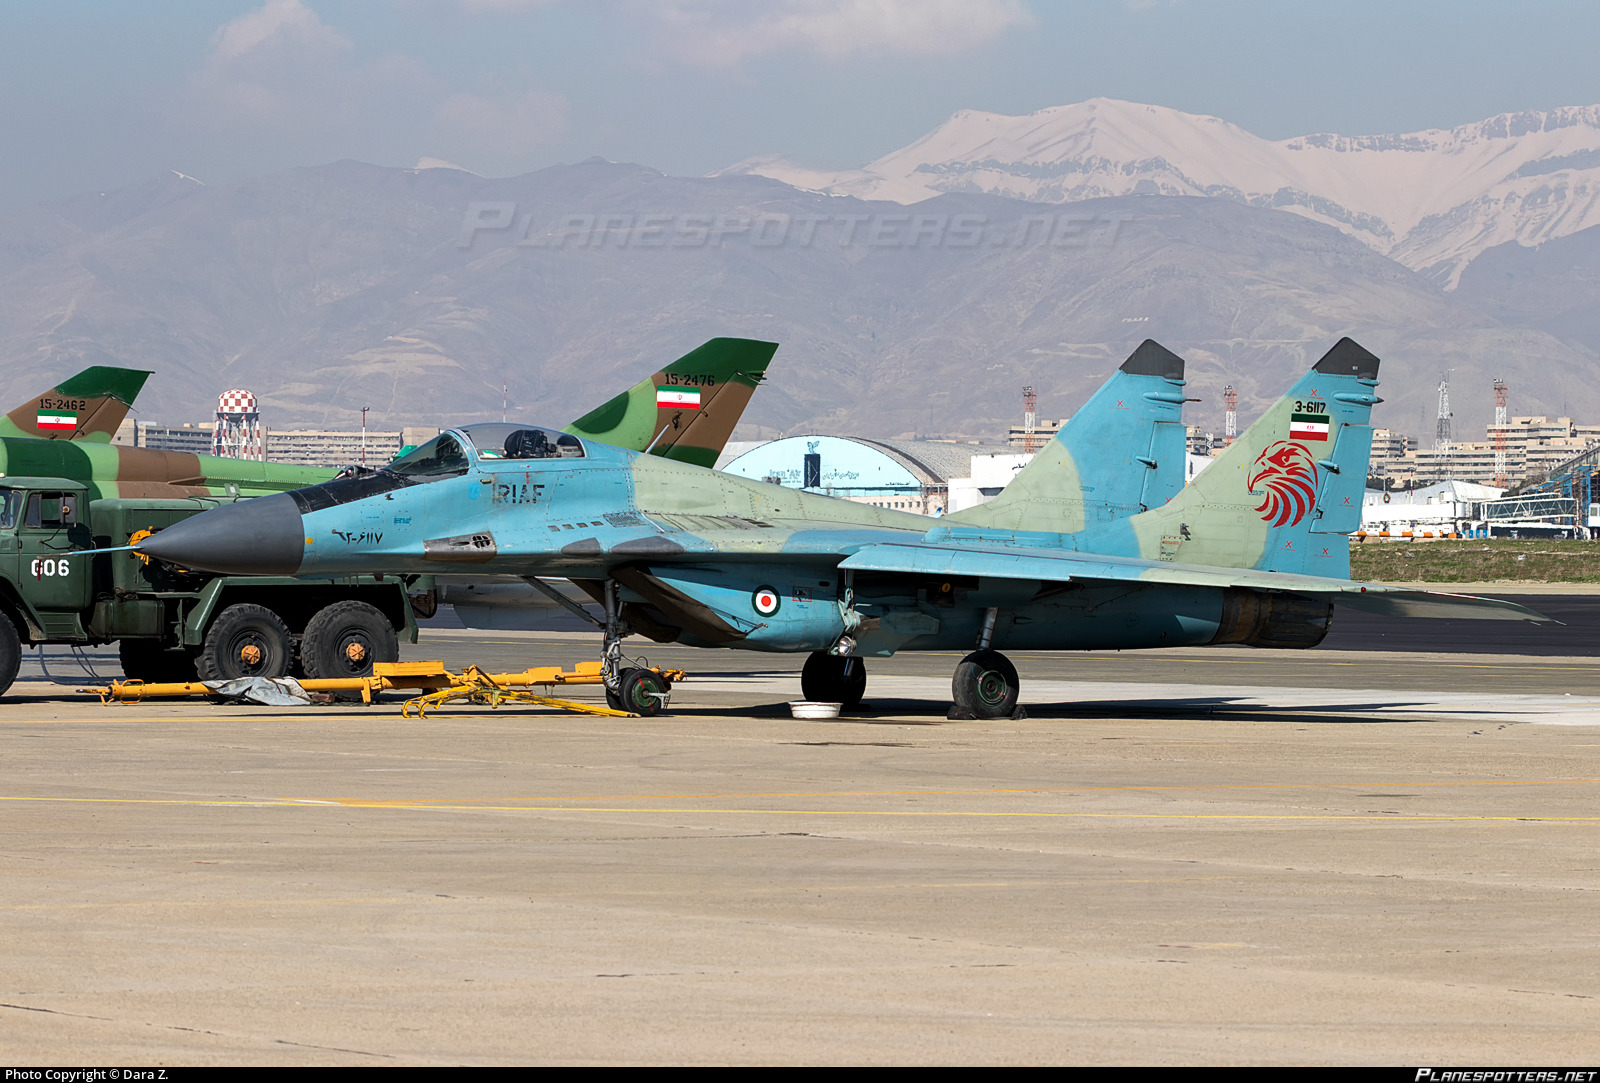Iran: (655, 384, 703, 411), (31, 406, 82, 427), (1291, 411, 1329, 438)
Mig-29: (166, 331, 1449, 722)
